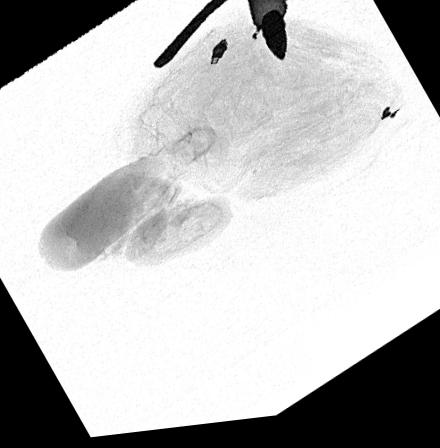Bullet: (246, 0, 287, 67)
Gun: (152, 0, 234, 73)
